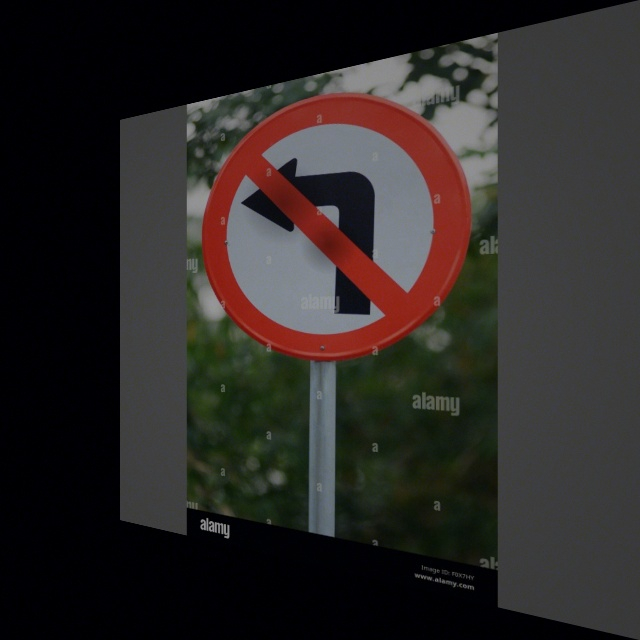Left_Turn_Prohibited: (200, 64, 473, 363)
